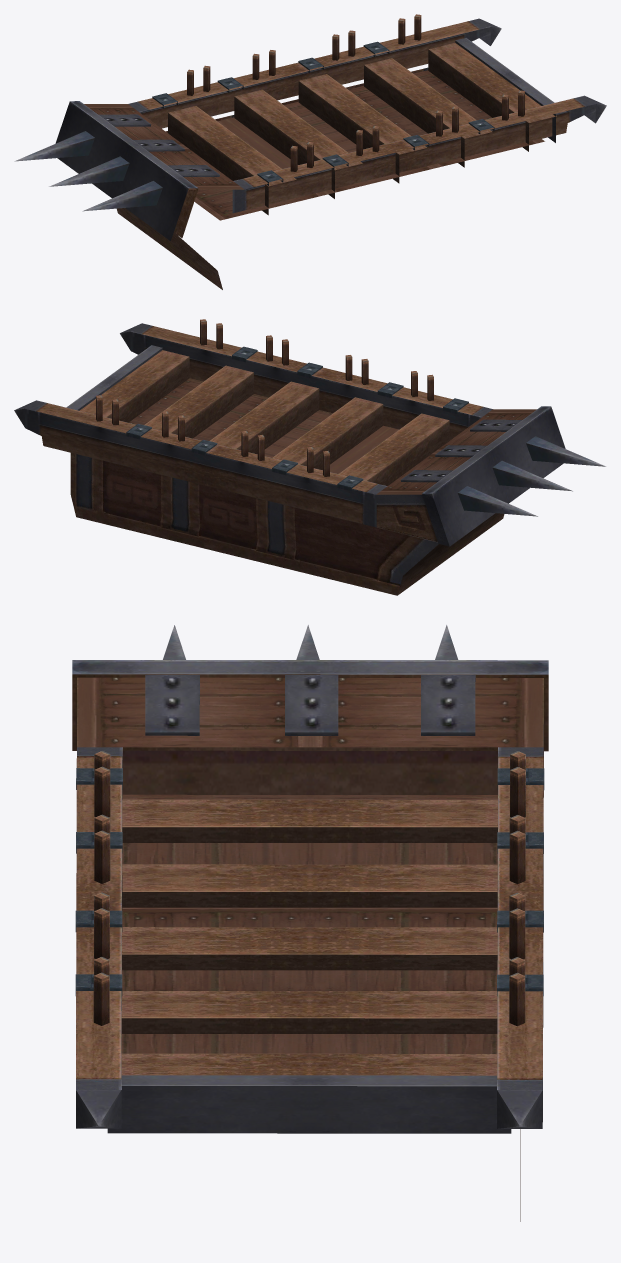
3 renders of one model, top to bottom at view 1: azimuth 30°, elevation 25°; view 2: azimuth 150°, elevation 25°; view 3: azimuth 270°, elevation 25°, orthographic. The views are drawn at different scales.
Visible parts, largest first — view 1: polySurface621; view 2: polySurface621; view 3: polySurface621.
Part boxes in pixels (<box>): polySurface621: <box>14,14,606,289</box>; polySurface621: <box>14,319,605,595</box>; polySurface621: <box>72,625,548,1221</box>.
Bounding box in the file's own units: 48.41 × 11.45 × 19.72.
